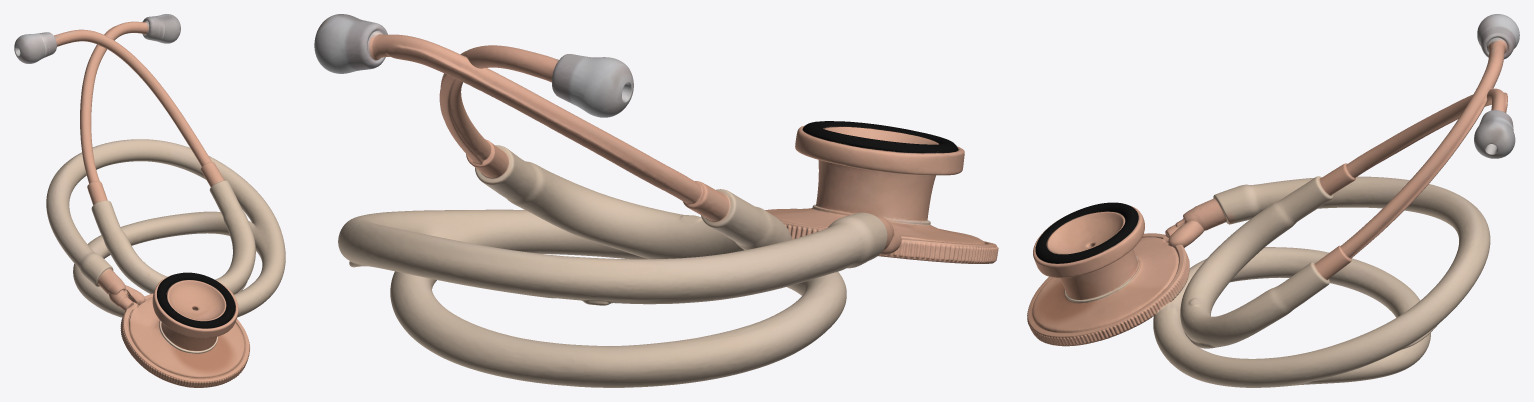
Rendered from Meshy_AI_Use_a_imagem_enviada__1007111933_texture.glb.
3 views of the same model, side by side, from view 1: azimuth 30°, elevation 25°; view 2: azimuth 150°, elevation 25°; view 3: azimuth 270°, elevation 25° (orthographic). The views are drawn at different scales.
Size of the model in its own units: 1.35 by 1.29 by 1.9.
Materials: 1 (1 with a texture image).
